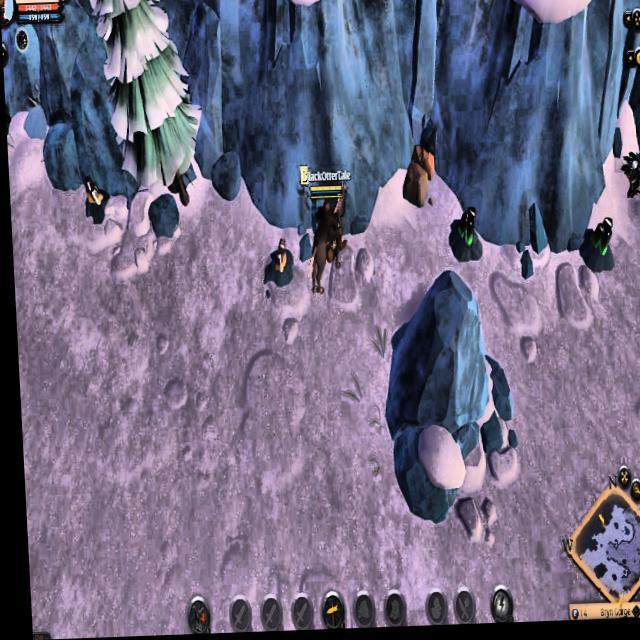copperore: (258, 239, 291, 294), (78, 176, 104, 221), (4, 90, 14, 139)
limestone: (395, 144, 437, 214)
tinore: (573, 216, 613, 279), (444, 205, 480, 270)
